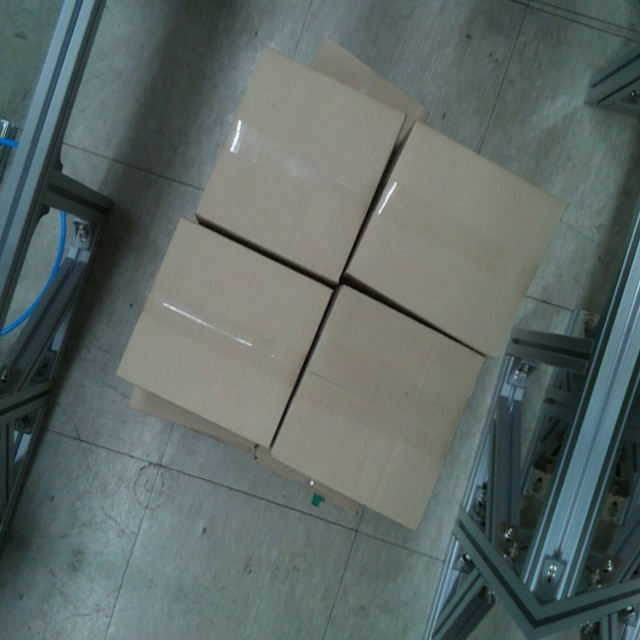box: (265, 279, 492, 531), (340, 118, 568, 362), (113, 215, 339, 452), (193, 45, 409, 289)
